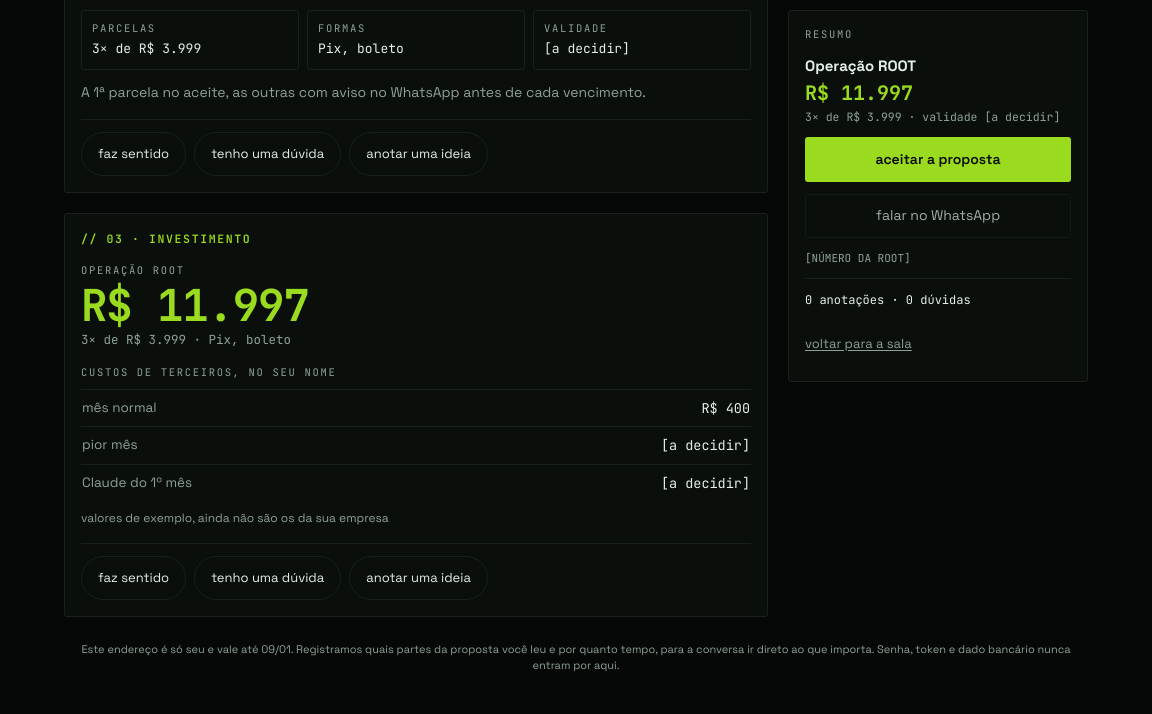
Test: a página da proposta › "anotar uma ideia" abre o campo com foco, conta, fecha com Esc e, enviada, mostra o selo na seção
This screenshot has width=1152, height=714.
(page scrolled)
Click the button "anotar uma ideia" below "Claude do 1º mês" at x=419, y=578, box [349,556,488,600]
(page scrolled)
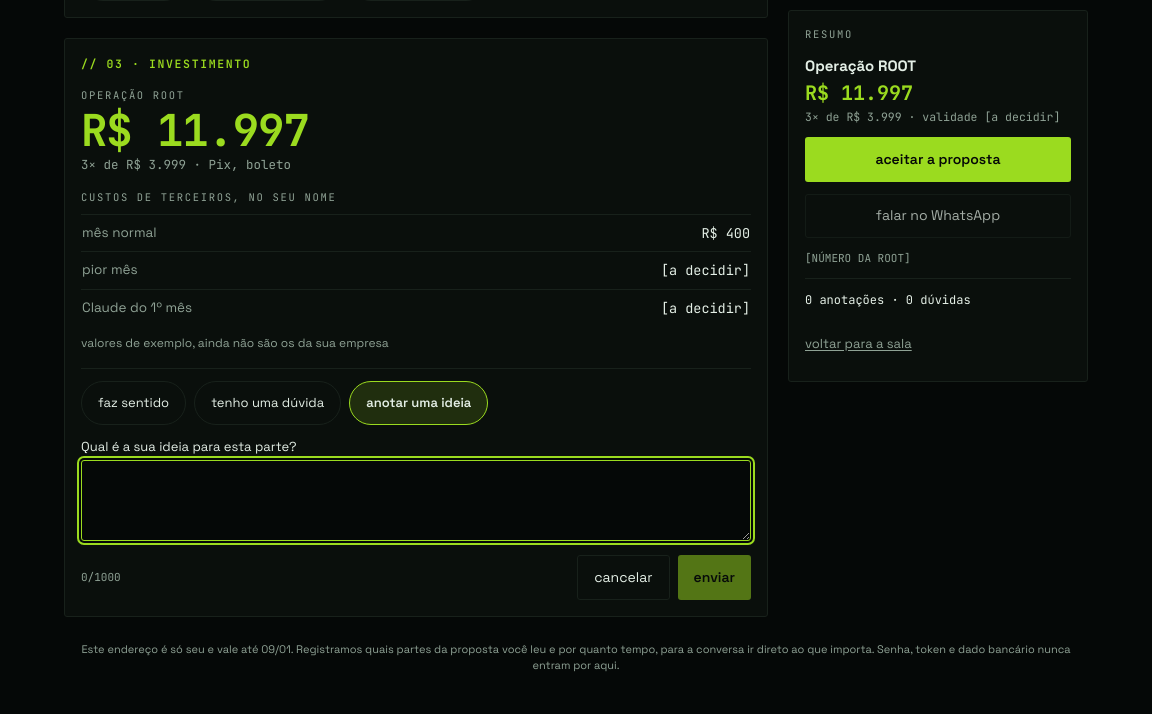
Expected: the button "anotar uma ideia" below "Claude do 1º mês" is pressed, [349,381,488,425]
Type "Dá para" into the text box at x=416, y=501, box [81,460,751,541]
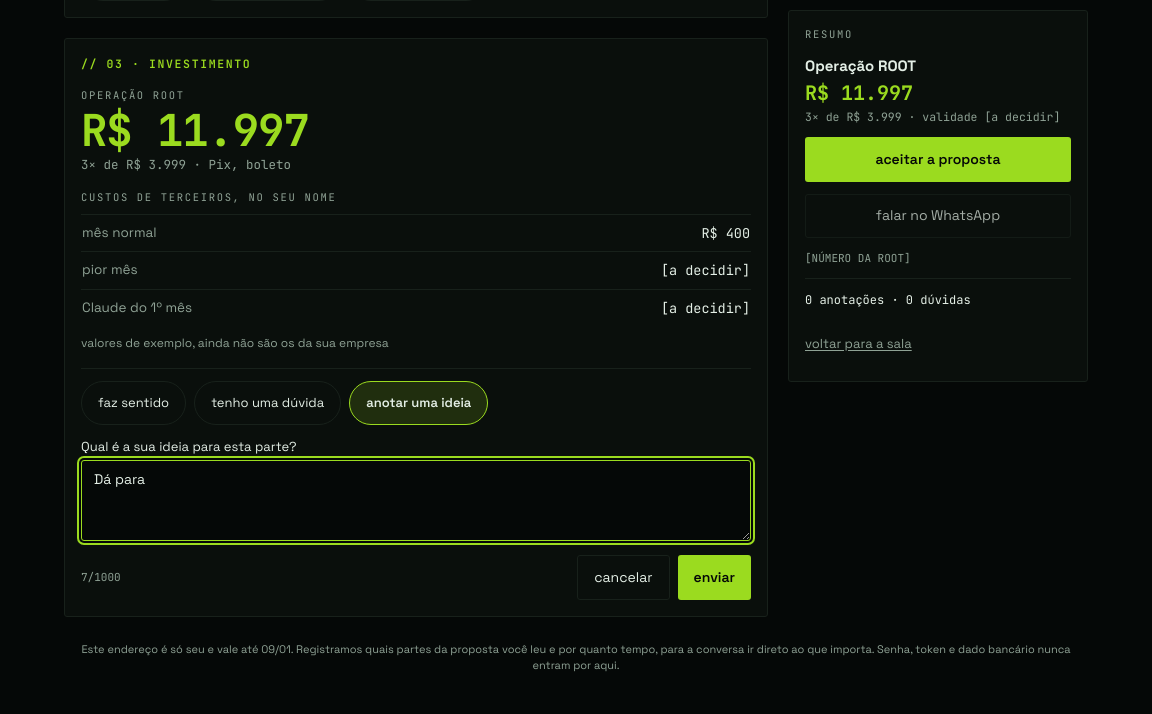
Expected: the text "7/1000" is shown, [81,569,121,586]
Press Escape in the text box, box [81,460,751,541]
(page scrolled)
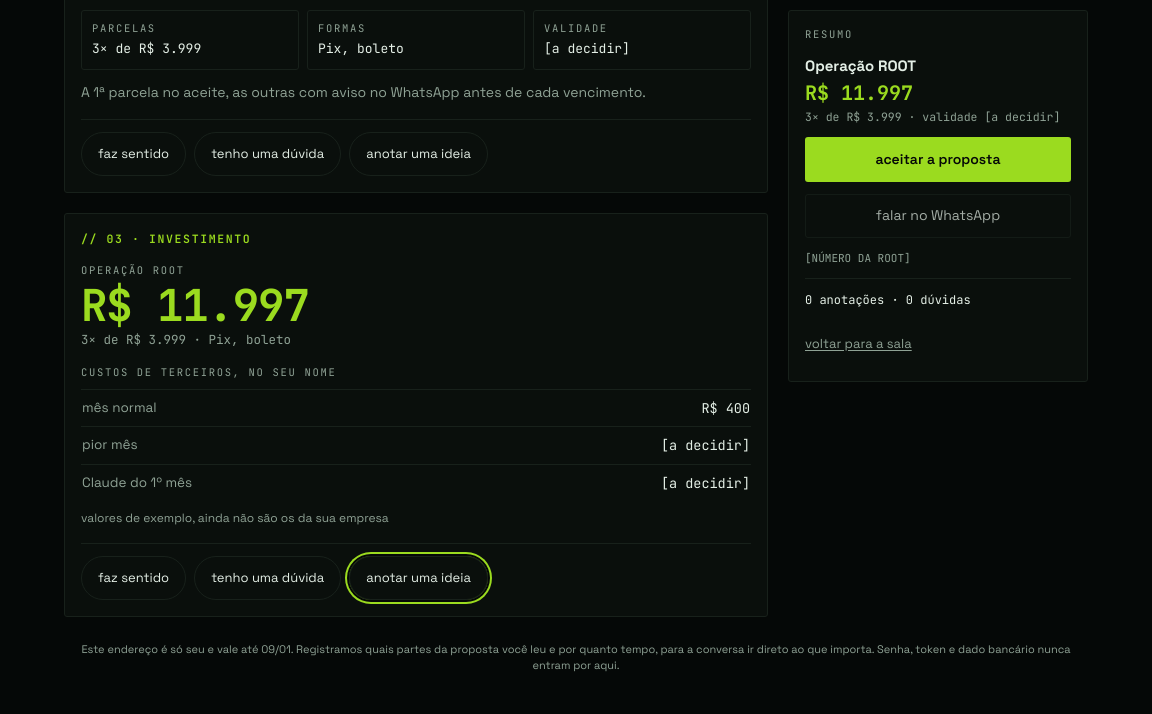
Click the button "anotar uma ideia" below "Claude do 1º mês" at x=419, y=578, box [349,556,488,600]
(page scrolled)
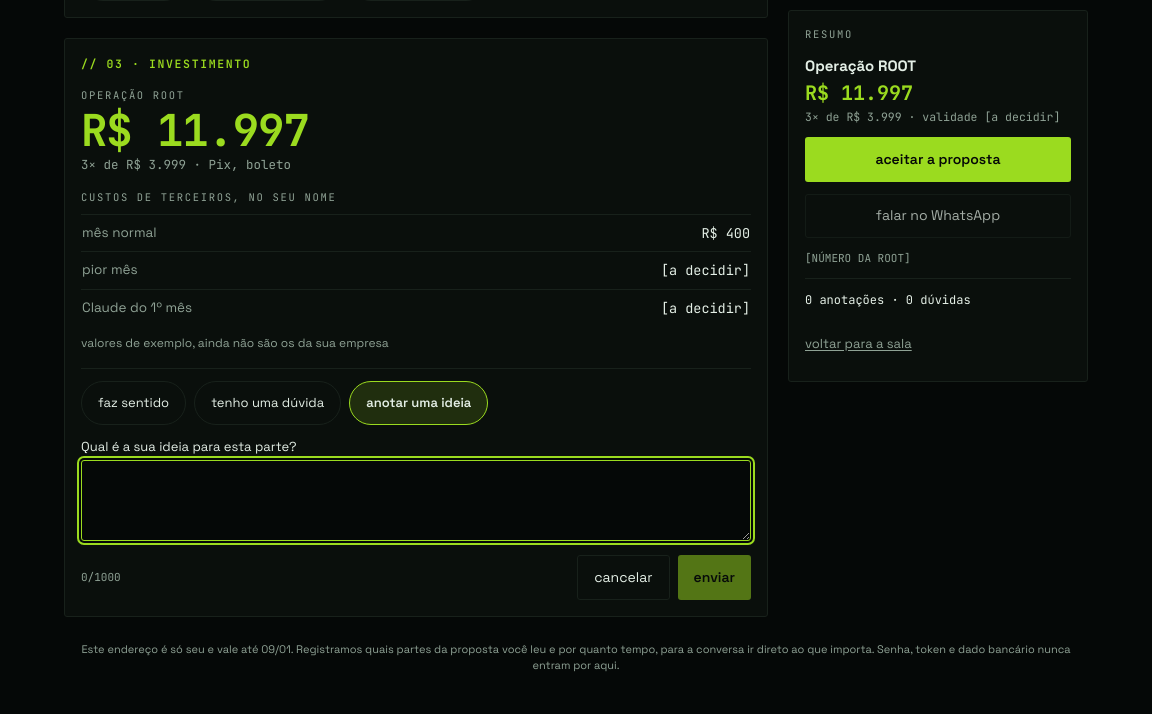
Type "Parcelar em 4?" into the text box at x=416, y=501, box [81,460,751,541]
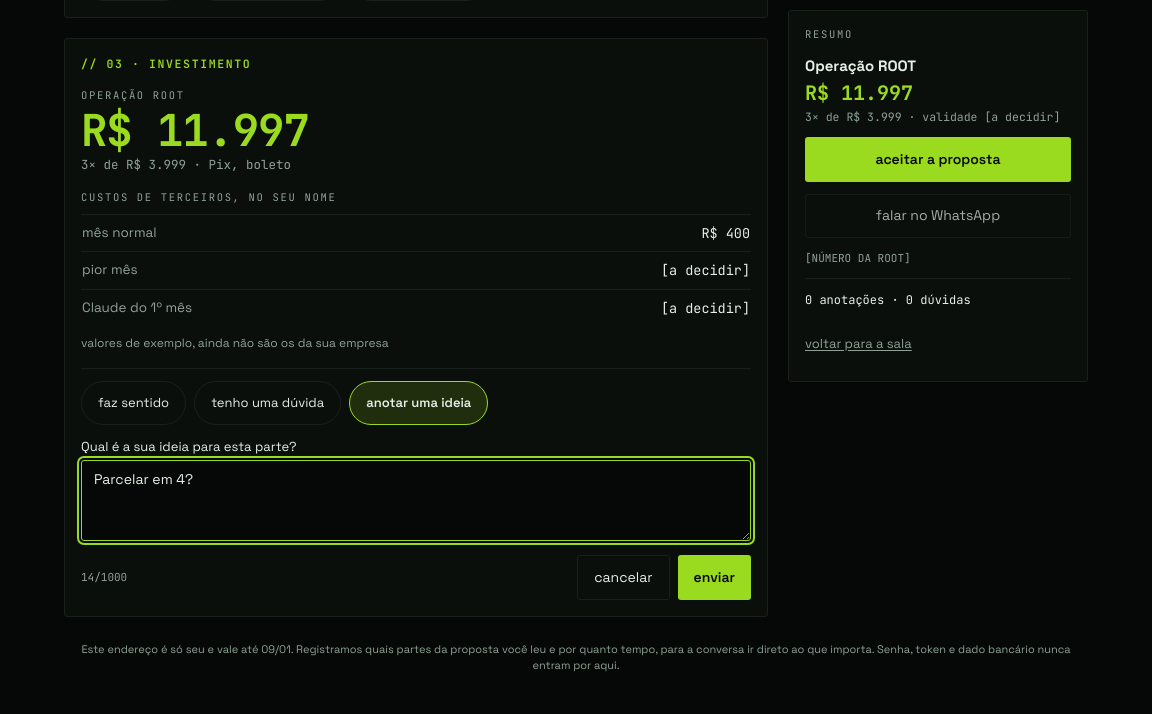
Click the button "enviar" at x=714, y=577, box [678,555,751,600]
(page scrolled)
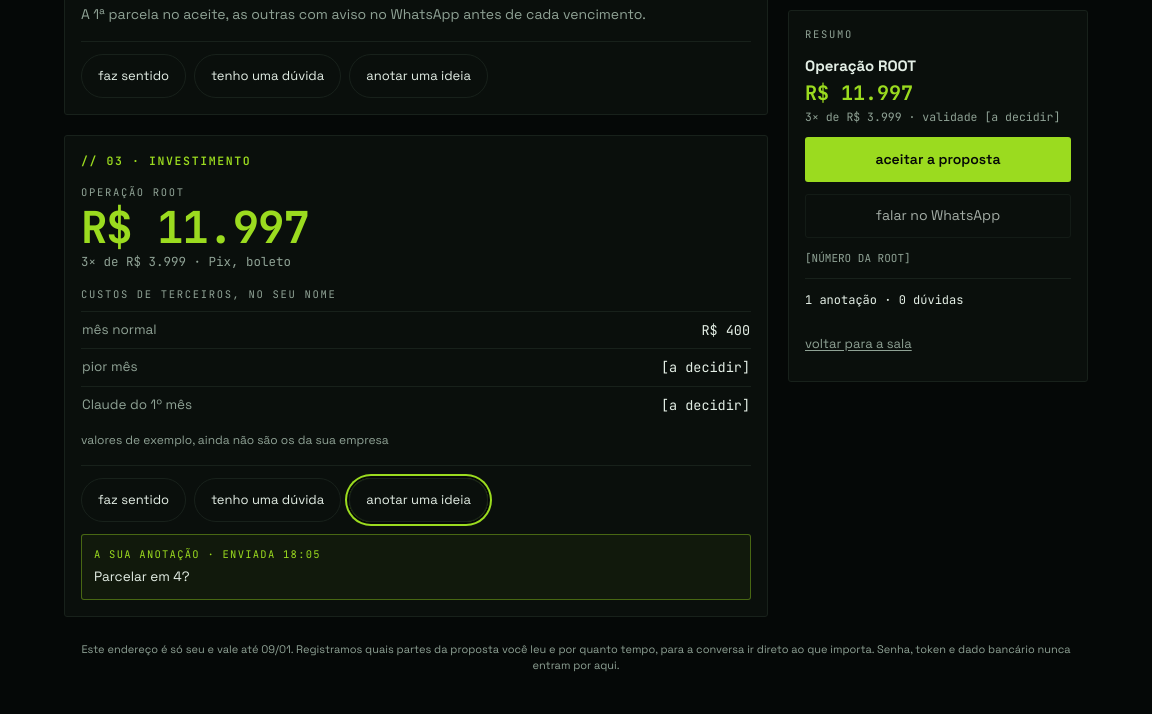
Expected: the text "Parcelar em 4?" is shown, [94,568,190,584]
Expected: the text "a sua anotação · enviada 18:05" is shown, [94,547,321,561]
Expected: the text with test id "contador" reads "1 anotação · 0 dúvidas", [805,278,1071,309]
